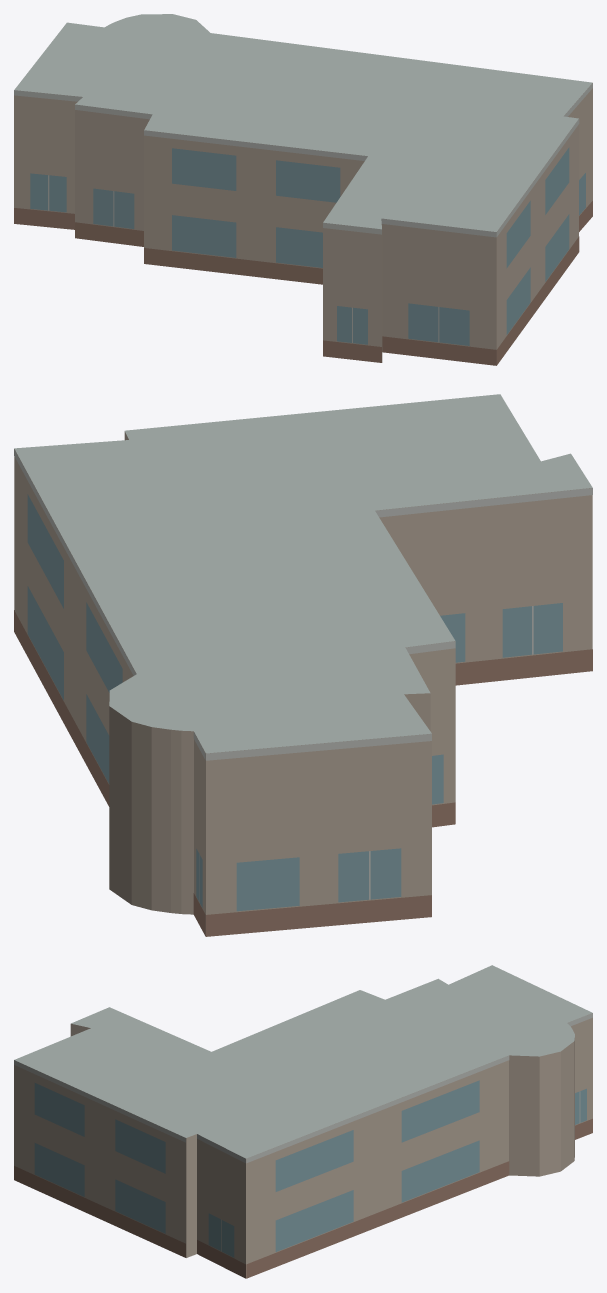
Rendered from survey-upis-32852078.glb.
The picture shows the model from 3 angles, top to bottom: view 1: azimuth 30°, elevation 25°; view 2: azimuth 150°, elevation 25°; view 3: azimuth 270°, elevation 25°; orthographic projection. The views are drawn at different scales.
Parts seen in each view (by area): view 1: survey-upis-32852078.tmp; view 2: survey-upis-32852078.tmp; view 3: survey-upis-32852078.tmp.
Boxes of the visible parts, x1,y1,x2,y2 form: survey-upis-32852078.tmp: (14,14,592,365); survey-upis-32852078.tmp: (14,394,592,936); survey-upis-32852078.tmp: (14,965,592,1278).
Bounding box in the file's own units: 21.1 × 6.1 × 26.65.
